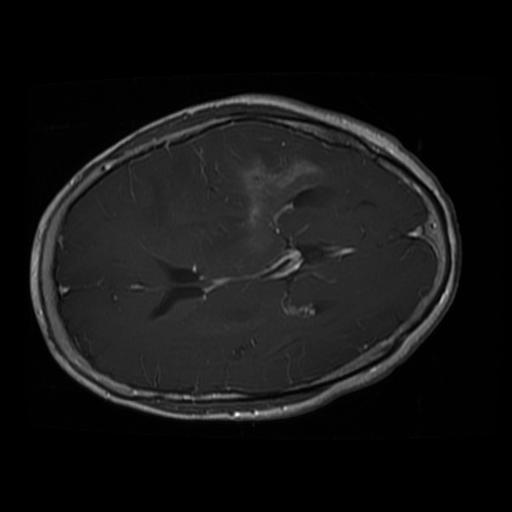glioma: (224, 150, 332, 245)
